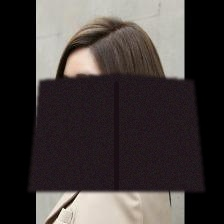Cadar_Niqab: (28, 14, 204, 191)
